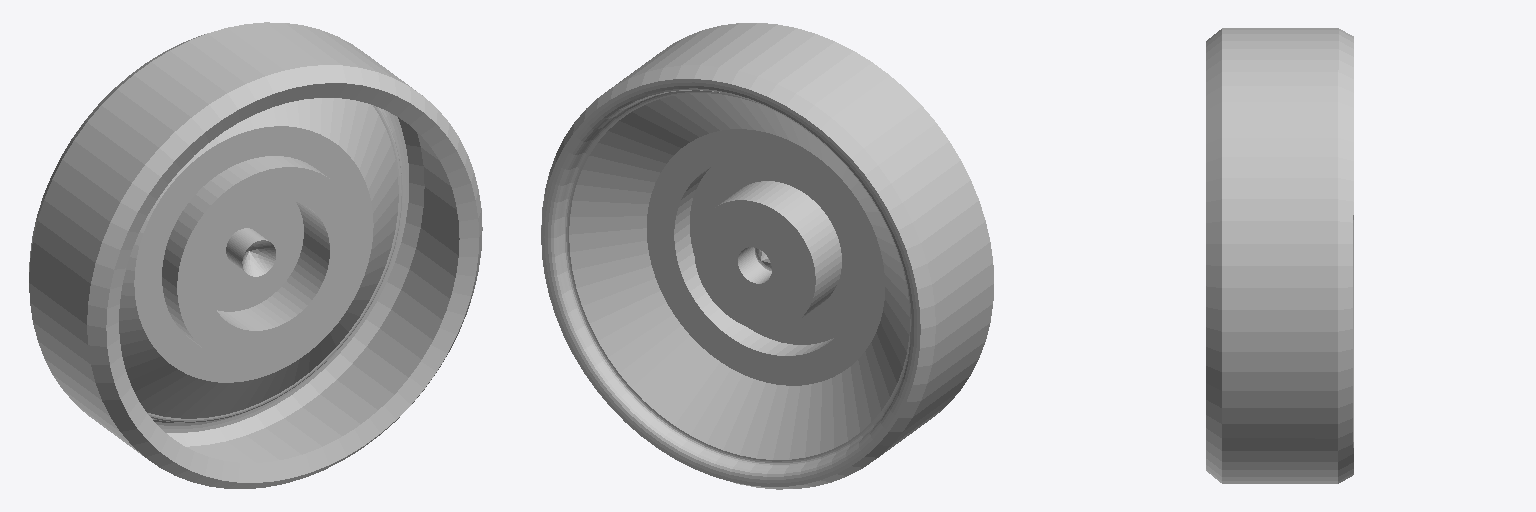
File: wheel_back_right.obj
3 renders of one model, left to right at view 1: azimuth 30°, elevation 25°; view 2: azimuth 150°, elevation 25°; view 3: azimuth 270°, elevation 25°, orthographic.
Parts seen in each view (by area): view 1: wheel_back_right; view 2: wheel_back_right; view 3: wheel_back_right.
Boxes of the visible parts, x1,y1,x2,y2 form: wheel_back_right: [29, 22, 482, 488]; wheel_back_right: [541, 23, 993, 489]; wheel_back_right: [1206, 28, 1353, 483].
Size of the model in its own units: 1.58 by 1.58 by 0.5157.